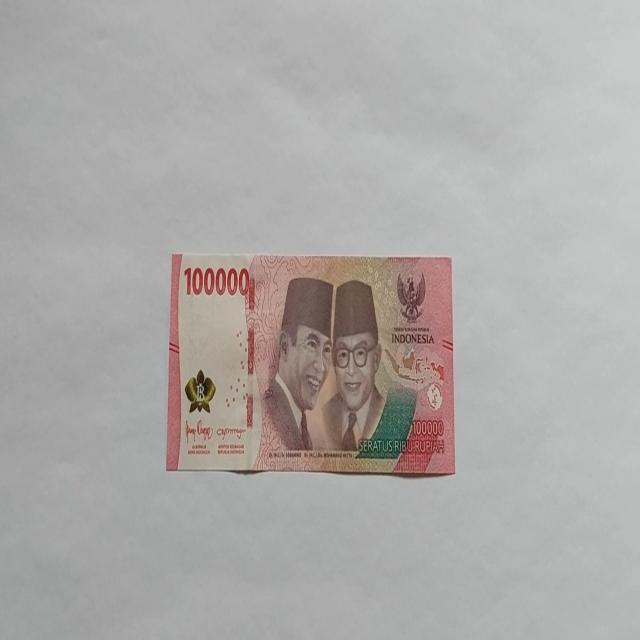seratus ribu rupiah: (166, 250, 456, 476), (254, 274, 334, 466)
